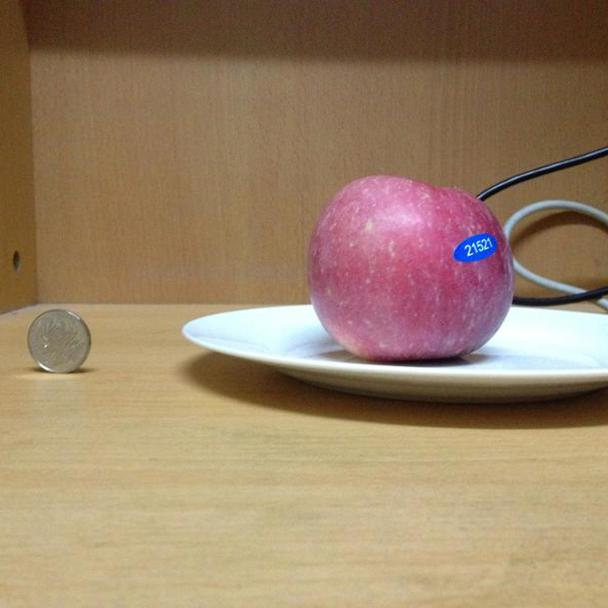apple: (307, 175, 513, 363)
